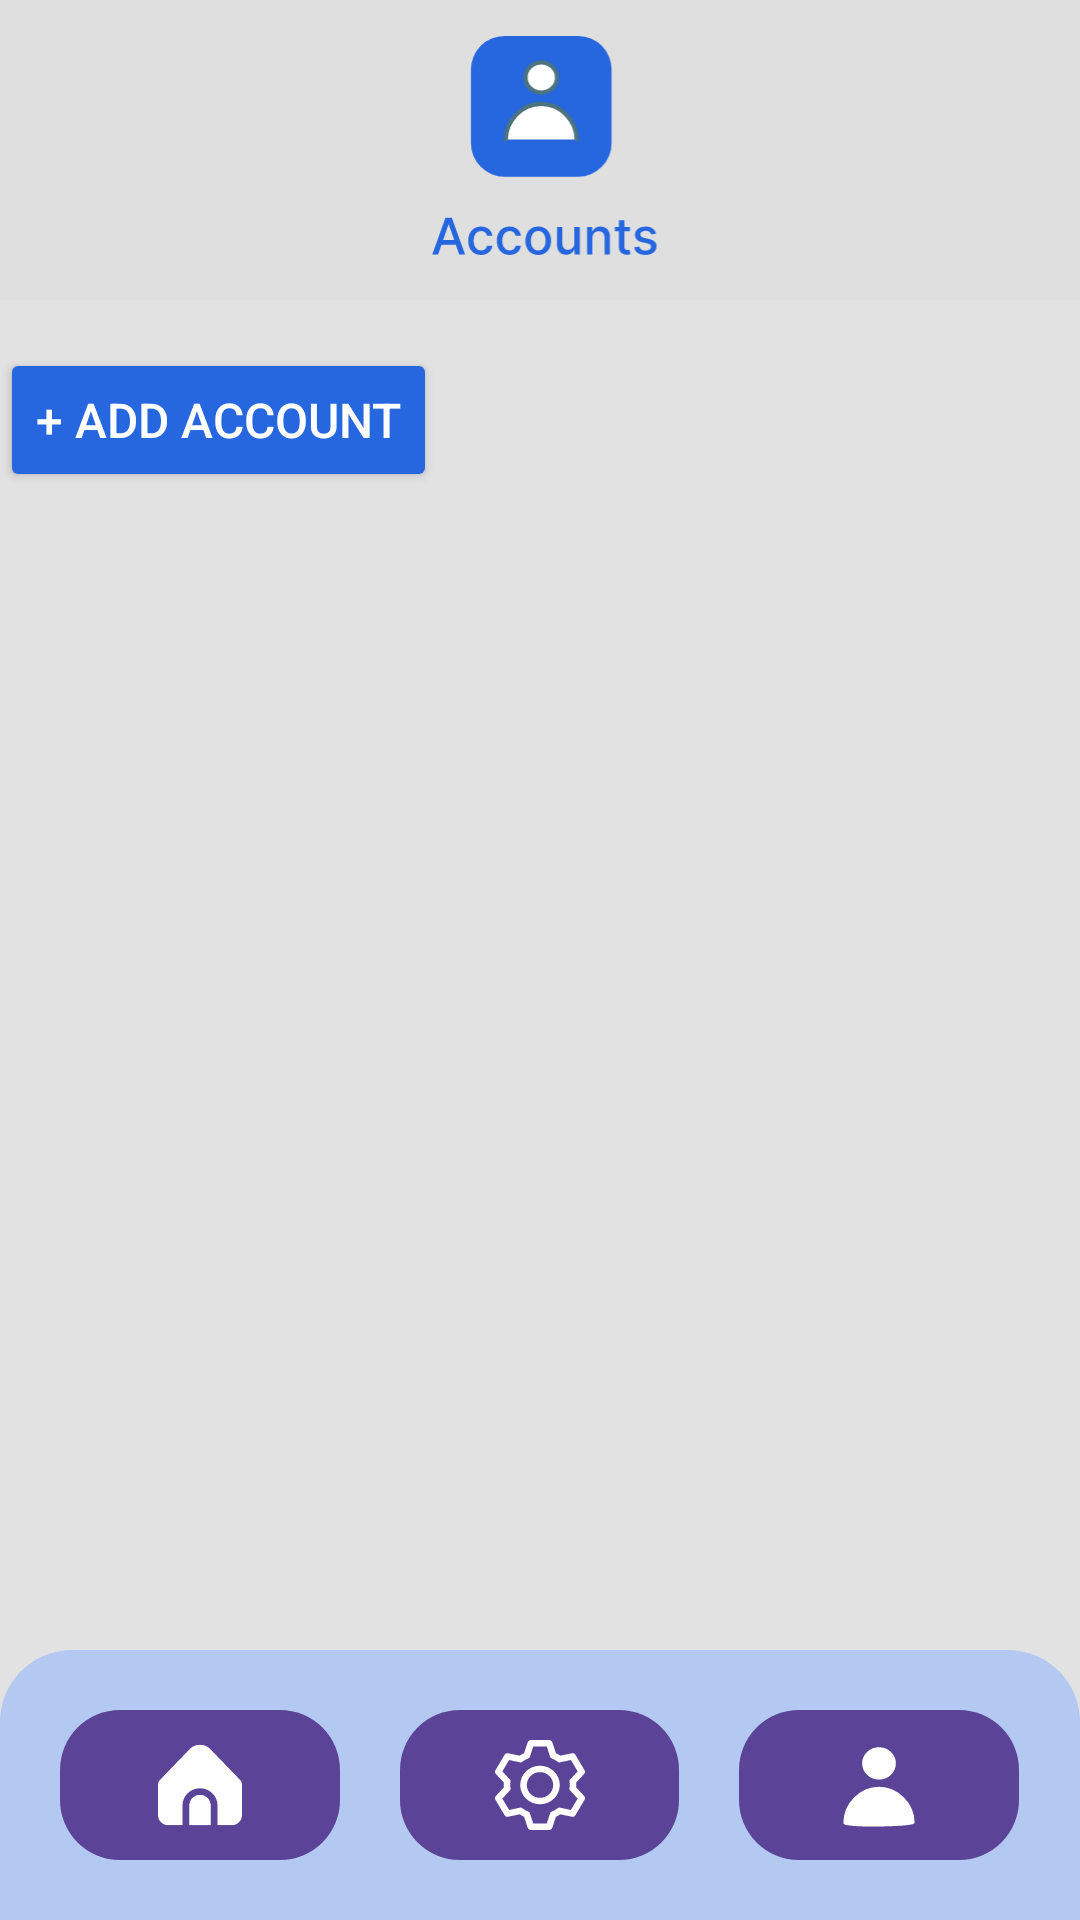

Named icons in this screenshot (1080×1920) and their bounding boxes, (x1, y1, x2, y2):
home: (60, 1710, 340, 1860)
settings: (400, 1710, 679, 1860)
user: (739, 1710, 1019, 1860)
